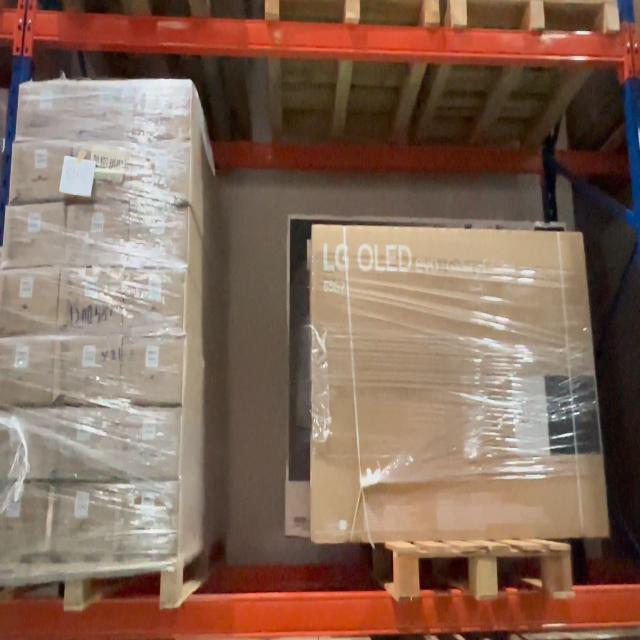box: (312, 228, 583, 538), (117, 483, 177, 561), (58, 409, 119, 482), (56, 484, 116, 556), (122, 408, 178, 480), (58, 338, 121, 402), (61, 268, 121, 334), (126, 271, 183, 337), (124, 338, 182, 402), (0, 408, 53, 478), (130, 207, 188, 267), (0, 270, 56, 332), (0, 336, 51, 404), (68, 205, 124, 266), (134, 80, 190, 139), (74, 143, 130, 202), (0, 480, 44, 555), (133, 142, 190, 199), (6, 208, 64, 264), (78, 82, 132, 139), (20, 85, 76, 139), (14, 144, 70, 198)
